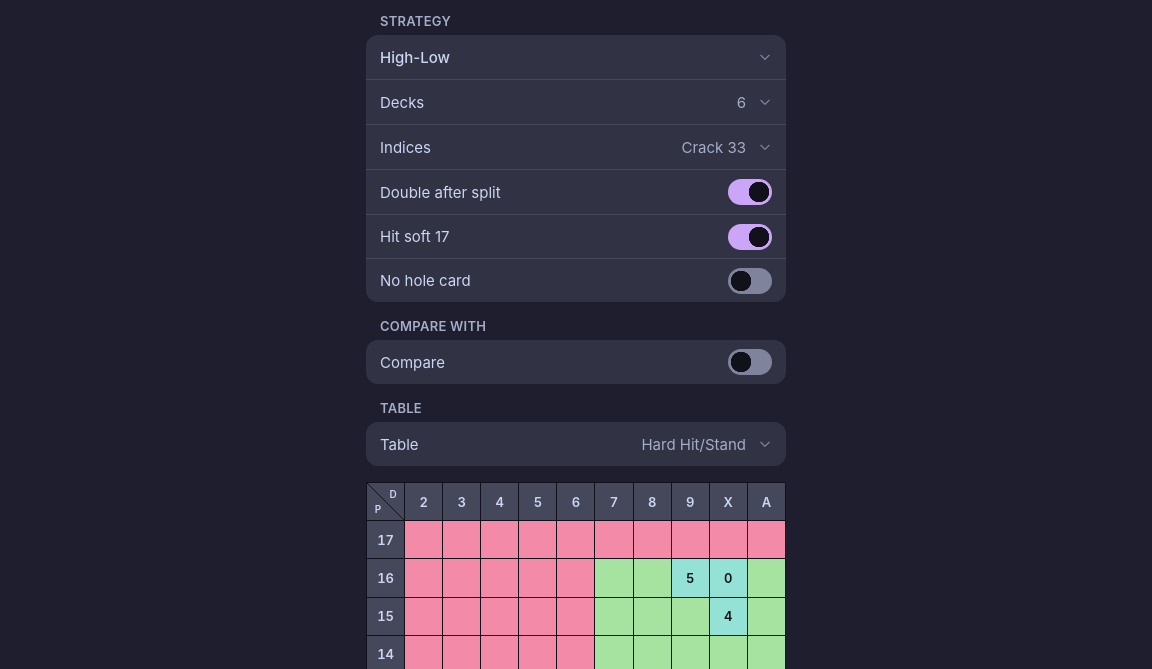
Test: Playing Strategy Charts › compares two strategies, each with its own decks and indices
Click the switch named "Compare": [750, 362] box [728,349,772,375]
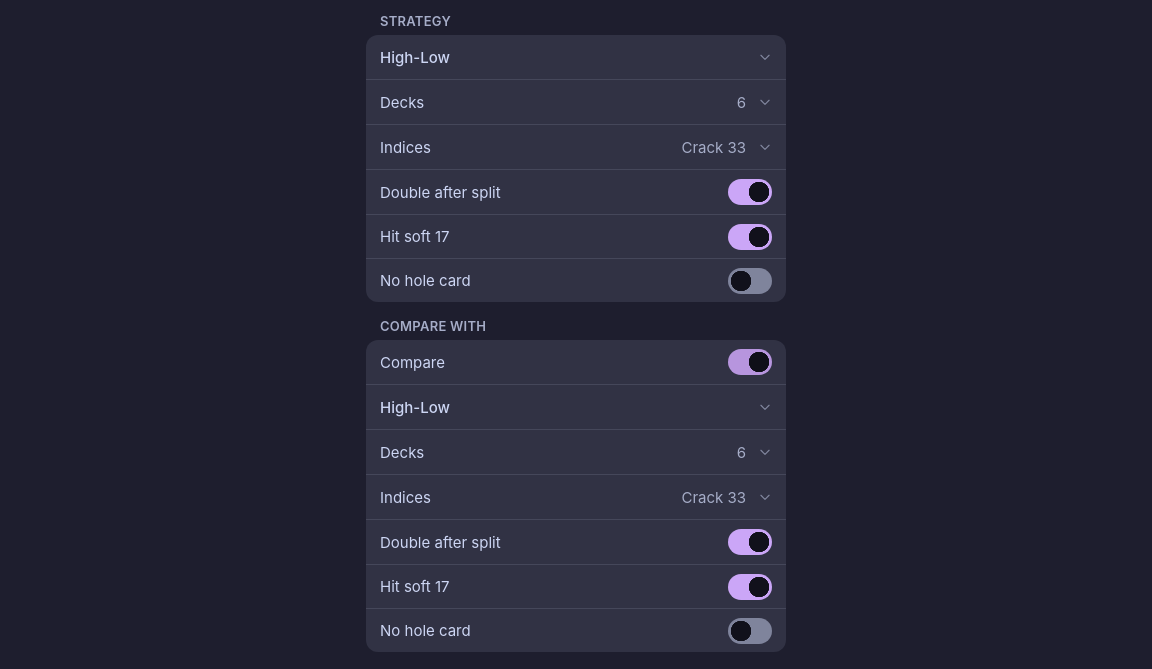
Select "Basic Strategy" in the dropdown named "Strategy" below "Compare with": [576, 407] box [366,385,786,429]
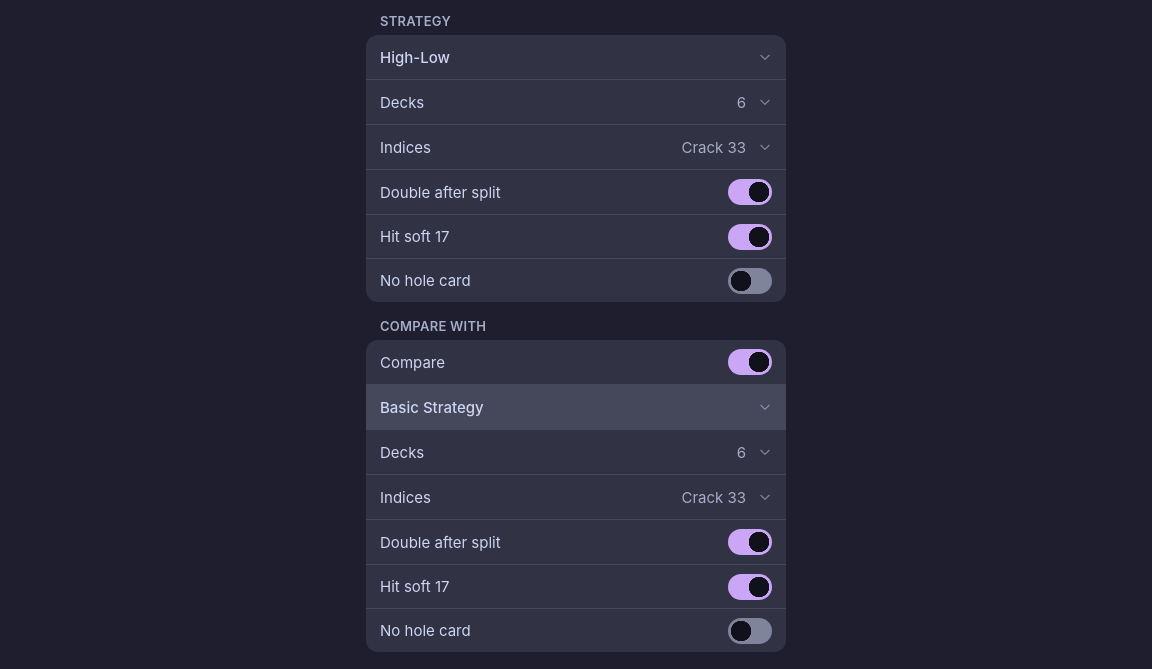
Select "No Indices" in the dropdown named "Indices" below "Compare with": [576, 497] box [366,475,786,519]
(page scrolled)
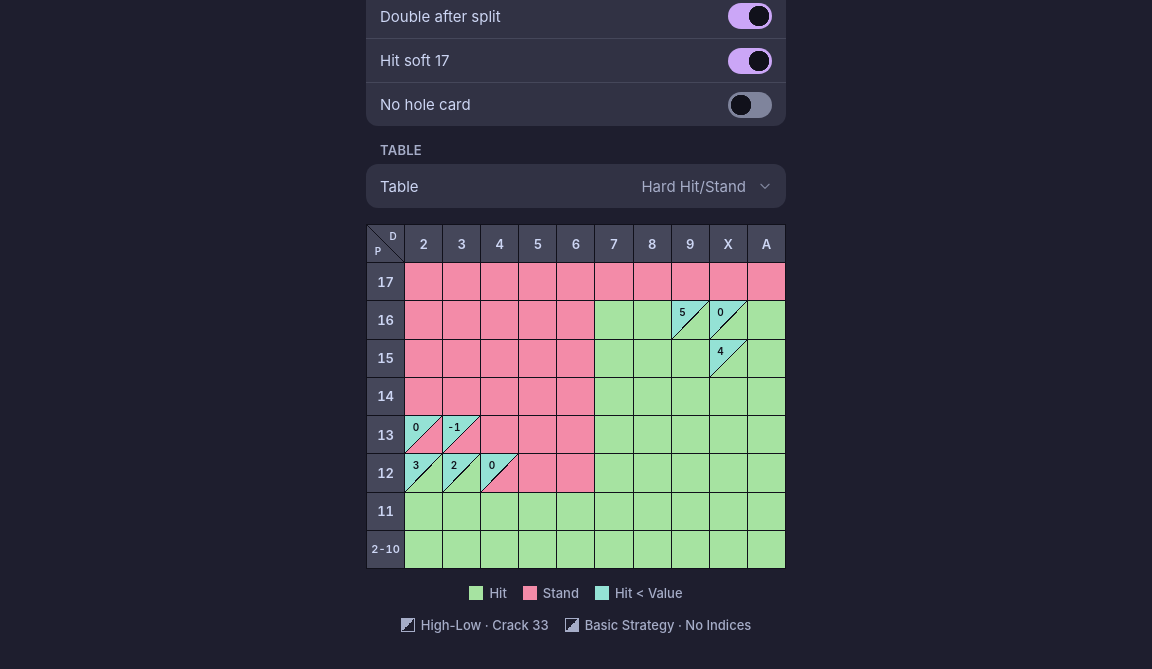
Check: the cell "0" in the row of "16" is shown, box [710,301,747,339]
Check: the list items read "High-Low · Crack 33", "Basic Strategy · No Indices", in this order, box [401,617,549,633]; [565,617,751,633]
